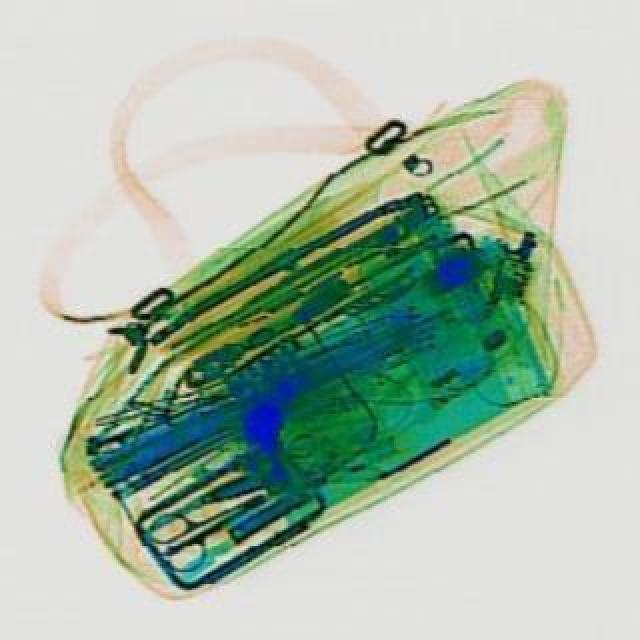pliers: (132, 468, 280, 580)
